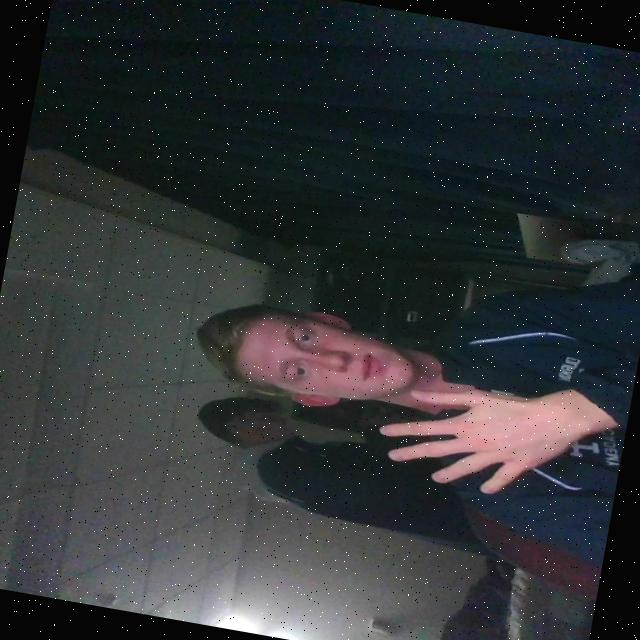paper: (361, 364, 590, 514)
